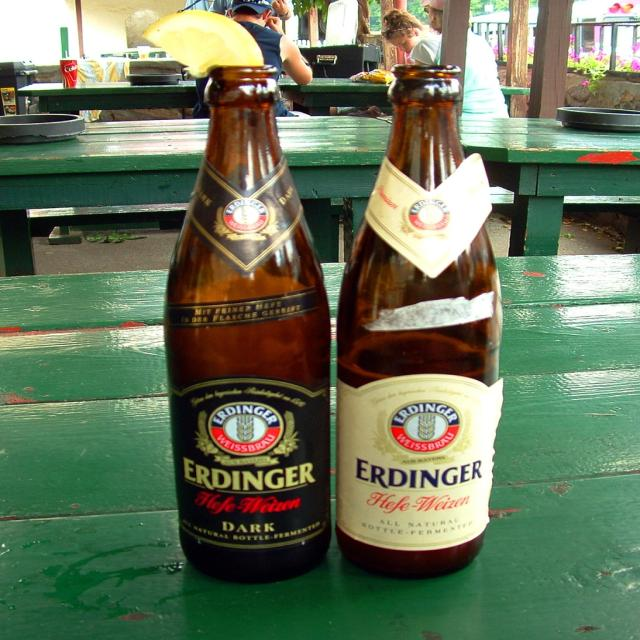erdinger: (178, 388, 323, 495), (348, 389, 486, 492), (213, 195, 458, 243)
